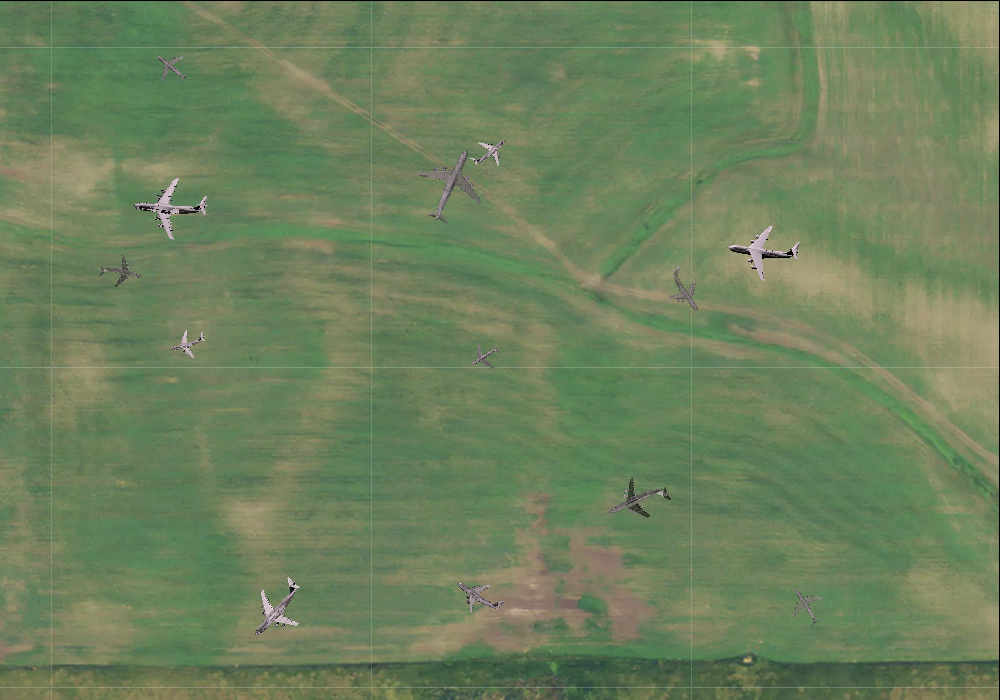plane: (401, 134, 500, 235), (230, 563, 320, 653), (724, 211, 805, 287), (599, 464, 679, 540), (130, 168, 210, 244), (446, 563, 512, 627), (654, 257, 717, 321), (778, 579, 833, 634), (462, 125, 515, 177), (94, 249, 145, 297), (146, 43, 195, 91), (463, 335, 506, 378), (165, 322, 209, 363)
